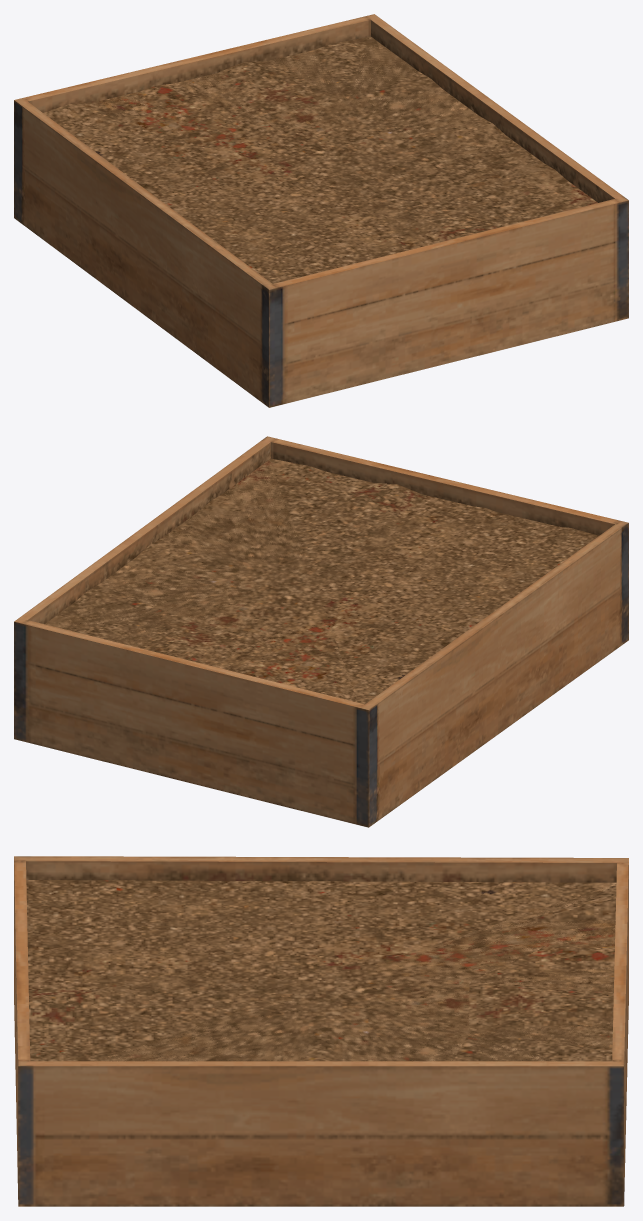
File: objects_un_t01house01_farm02.gltf
The picture shows the model from 3 angles, top to bottom: view 1: azimuth 30°, elevation 25°; view 2: azimuth 150°, elevation 25°; view 3: azimuth 270°, elevation 25°; orthographic projection. The views are drawn at different scales.
Visible parts, largest first — view 1: um_objects_un_t01house01_farm02_model_lod0Shape:objects_un_t, um_objects_un_t01house01_farm02_model_lod1Shape:objects_un_t, um_objects_un_t01house01_farm02_model_lod2Shape:objects_un_t; view 2: um_objects_un_t01house01_farm02_model_lod0Shape:objects_un_t, um_objects_un_t01house01_farm02_model_lod1Shape:objects_un_t, um_objects_un_t01house01_farm02_model_lod2Shape:objects_un_t; view 3: um_objects_un_t01house01_farm02_model_lod0Shape:objects_un_t, um_objects_un_t01house01_farm02_model_lod1Shape:objects_un_t, um_objects_un_t01house01_farm02_model_lod2Shape:objects_un_t.
Part boxes in pixels (x1=…): um_objects_un_t01house01_farm02_model_lod0Shape:objects_un_t: x1=14, y1=14, x2=628, y2=407; um_objects_un_t01house01_farm02_model_lod1Shape:objects_un_t: x1=51, y1=37, x2=597, y2=283; um_objects_un_t01house01_farm02_model_lod2Shape:objects_un_t: x1=56, y1=38, x2=530, y2=166; um_objects_un_t01house01_farm02_model_lod0Shape:objects_un_t: x1=14, y1=436, x2=628, y2=827; um_objects_un_t01house01_farm02_model_lod1Shape:objects_un_t: x1=48, y1=459, x2=594, y2=702; um_objects_un_t01house01_farm02_model_lod2Shape:objects_un_t: x1=45, y1=460, x2=402, y2=704; um_objects_un_t01house01_farm02_model_lod0Shape:objects_un_t: x1=14, y1=856, x2=628, y2=1206; um_objects_un_t01house01_farm02_model_lod1Shape:objects_un_t: x1=26, y1=880, x2=615, y2=1061; um_objects_un_t01house01_farm02_model_lod2Shape:objects_un_t: x1=92, y1=882, x2=616, y2=1061.
Size of the model in its own units: 2.07 by 0.6454 by 2.56.
Materials: 2 (1 with a texture image).
